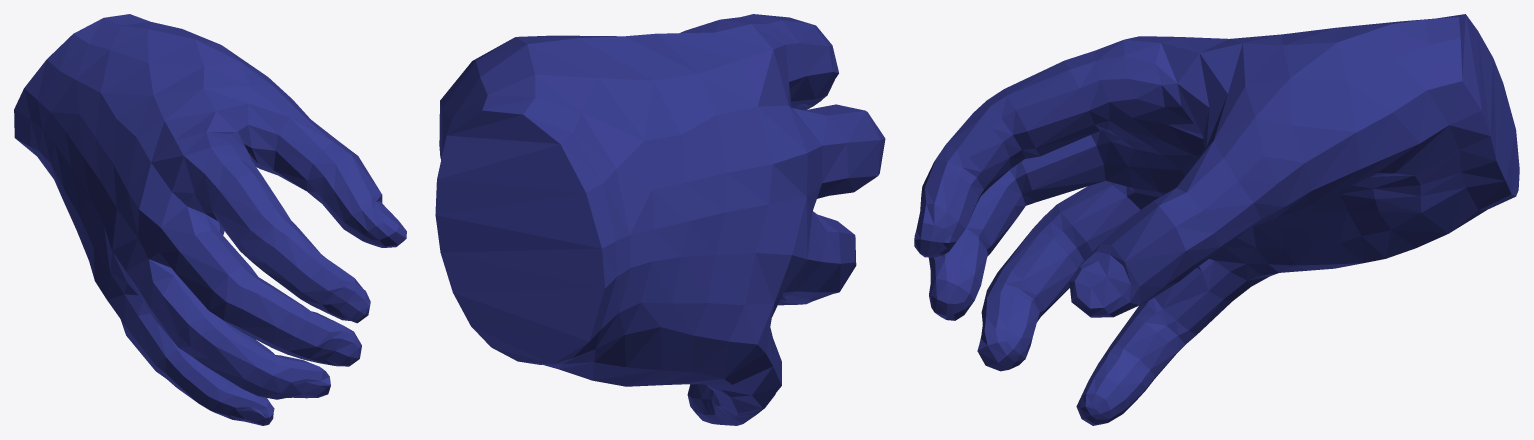
The picture shows the model from 3 angles, left to right: view 1: azimuth 30°, elevation 25°; view 2: azimuth 150°, elevation 25°; view 3: azimuth 270°, elevation 25°; orthographic projection. The views are drawn at different scales.
Bounding box in the file's own units: 0.1002 × 0.1214 × 0.1663.
